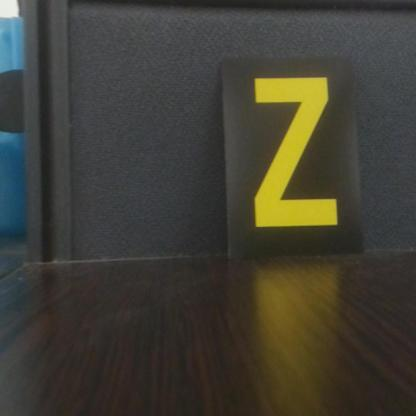z: (223, 58, 363, 254)
